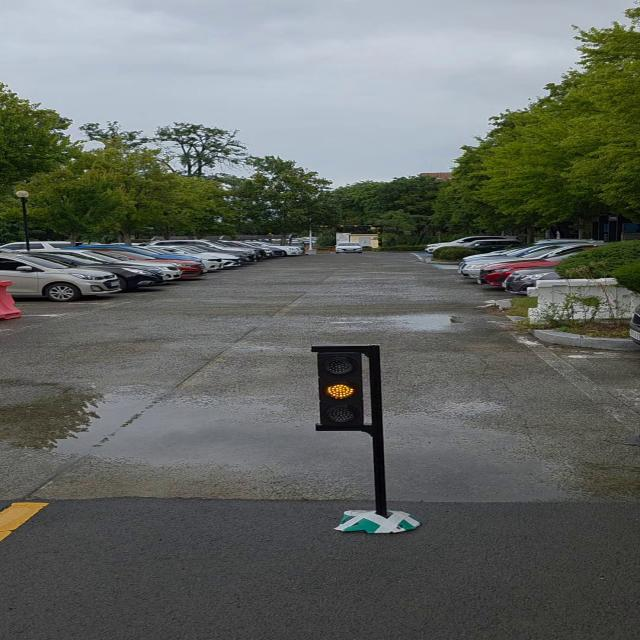yellow: (317, 350, 366, 429)
